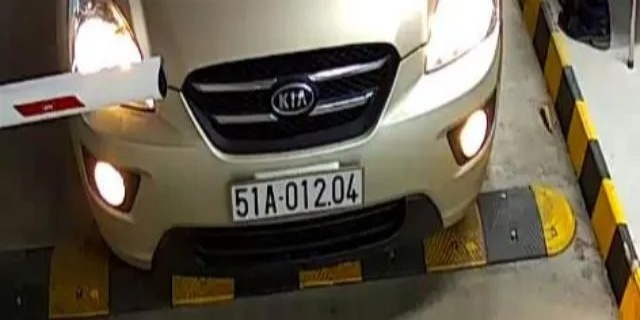bien_so: (234, 173, 362, 215)
